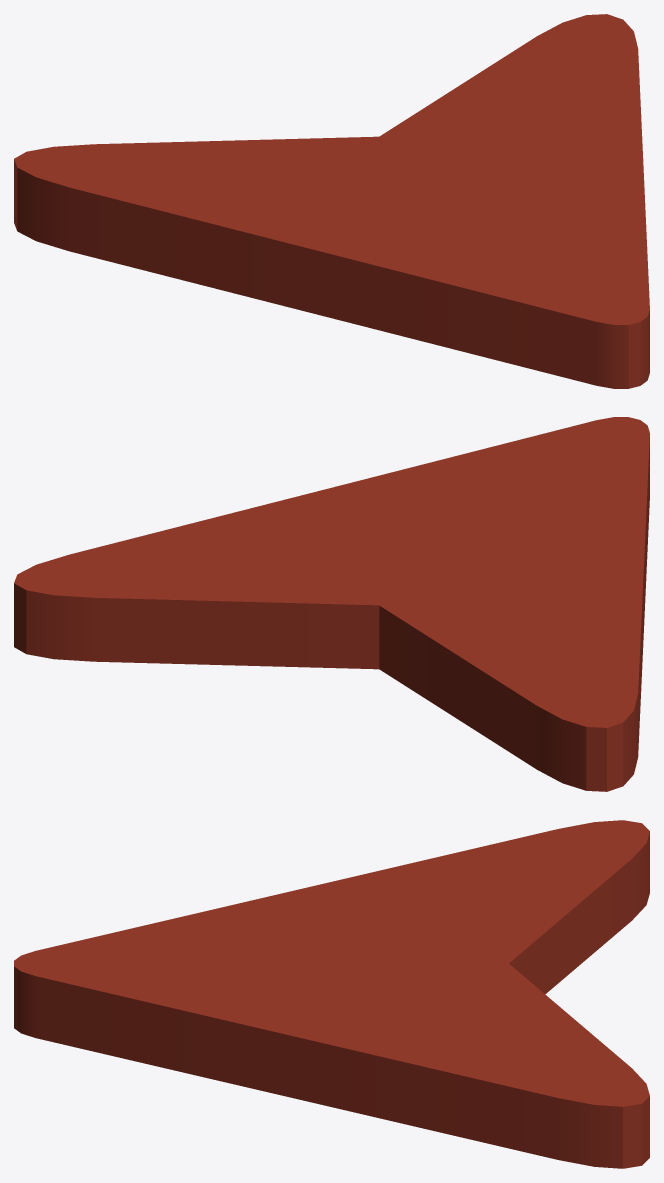
The model's file is arrow_direction.glb.
3 renders of one model, top to bottom at view 1: azimuth 30°, elevation 25°; view 2: azimuth 150°, elevation 25°; view 3: azimuth 270°, elevation 25°, orthographic. The views are drawn at different scales.
Visible parts, largest first — view 1: arrow_direction; view 2: arrow_direction; view 3: arrow_direction.
Boxes of the visible parts, x1,y1,x2,y2 form: arrow_direction: (14,14,649,388); arrow_direction: (14,417,649,791); arrow_direction: (14,820,649,1168).
Bounding box in the file's own units: 1.6 × 0.1608 × 1.5.
